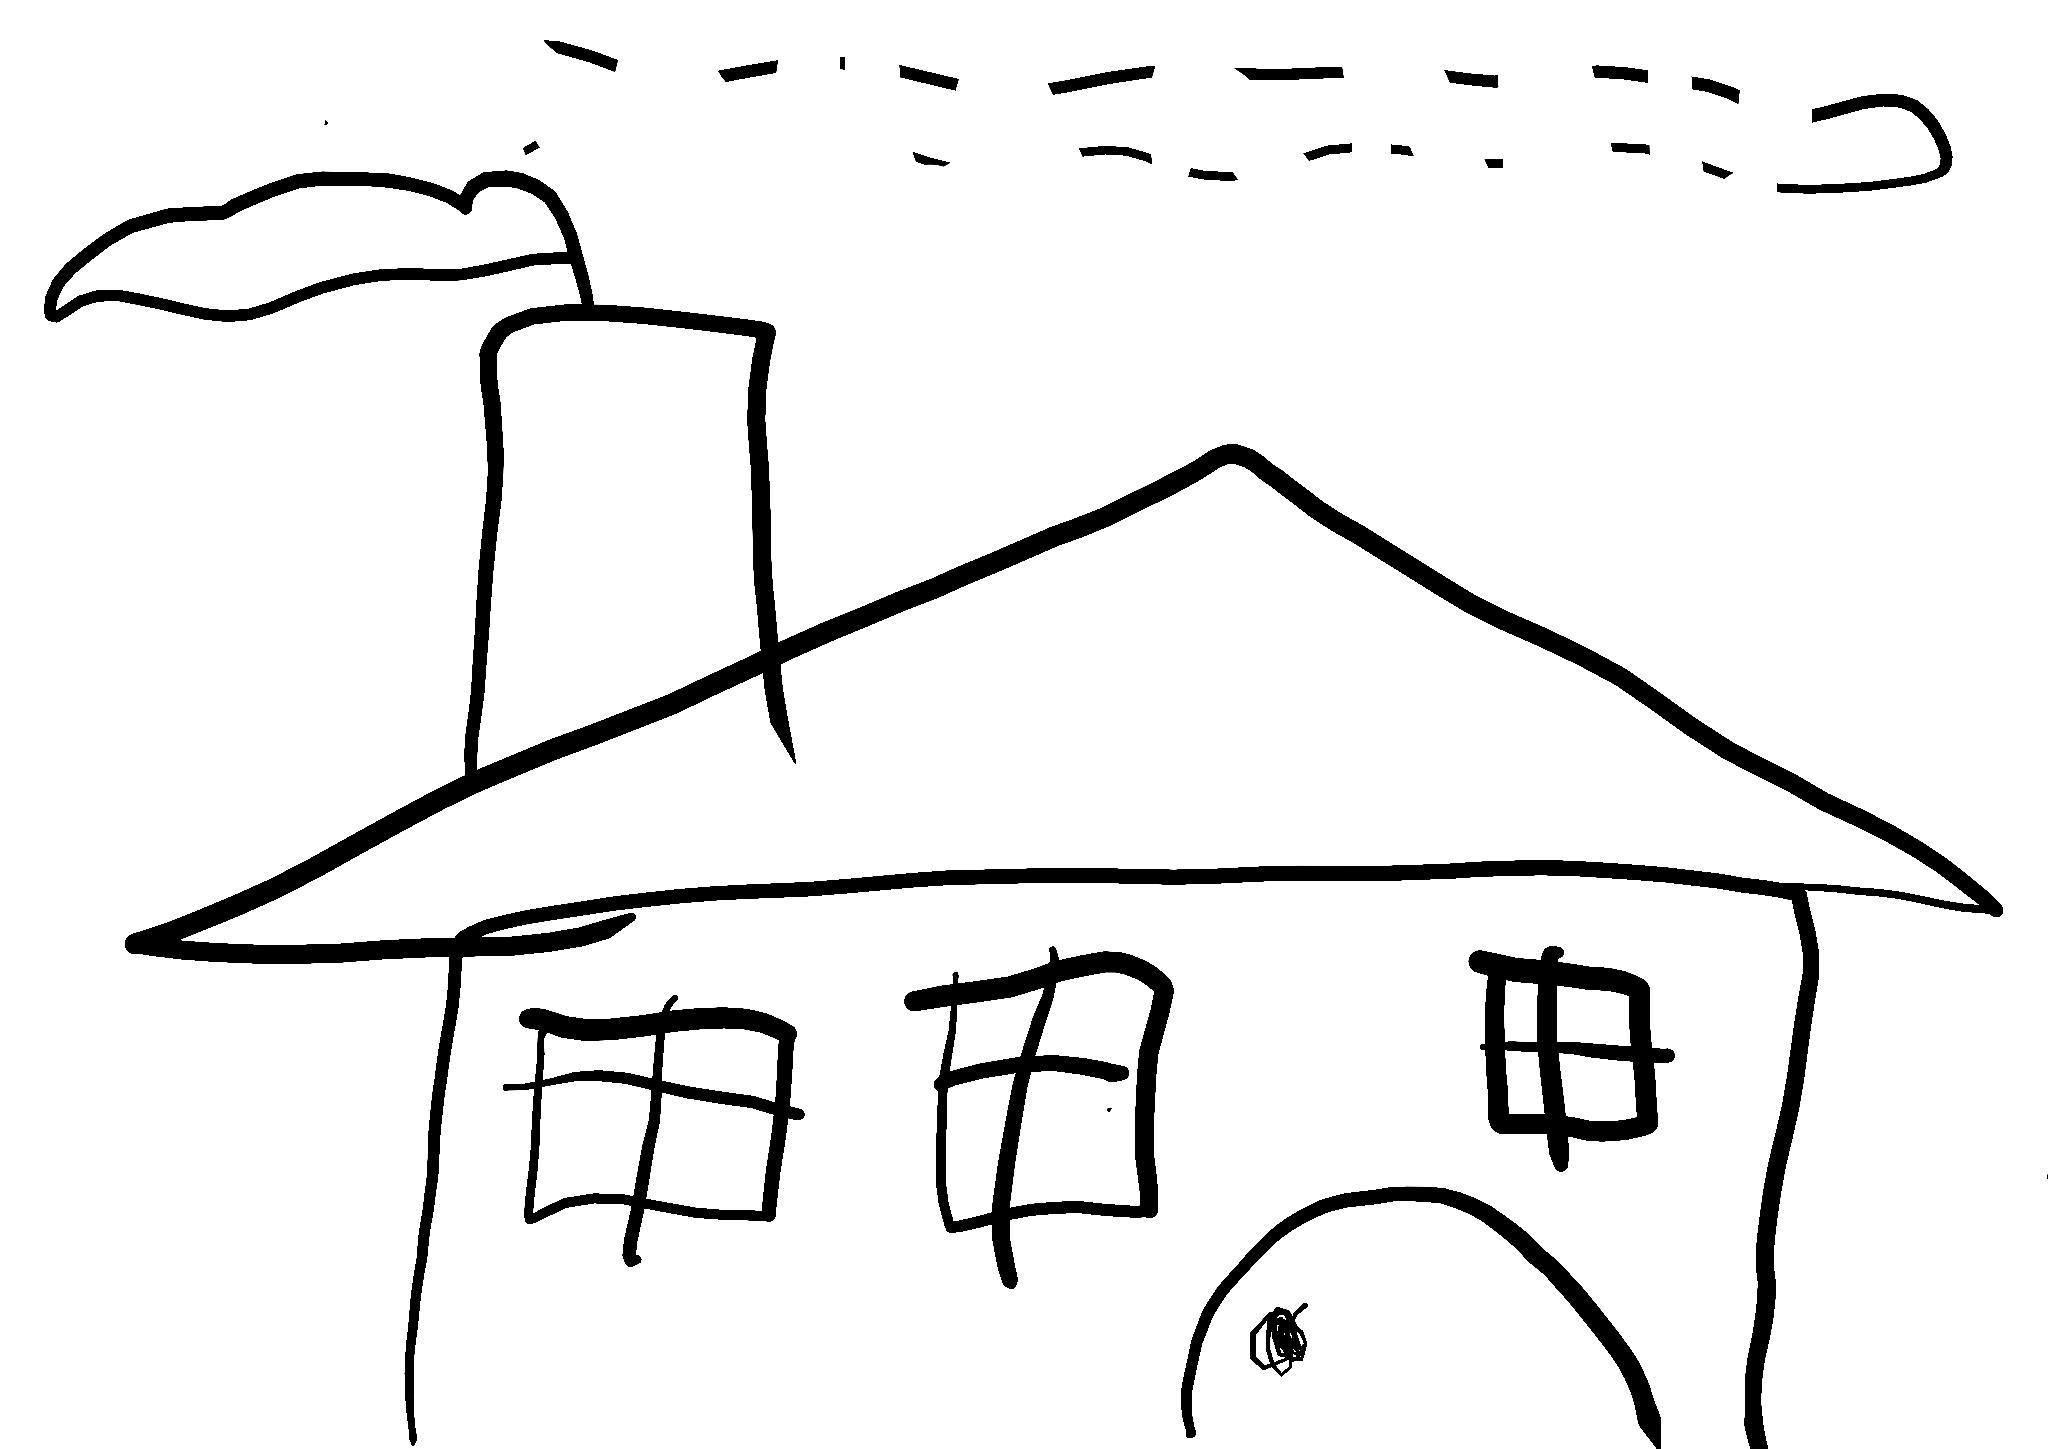chimney: (463, 304, 772, 786)
door: (1182, 1189, 1664, 1447)
house: (125, 312, 2014, 1449)
roof: (110, 442, 2003, 966)
wall: (409, 881, 1814, 1449)
window: (903, 949, 1175, 1291), (503, 1000, 804, 1269), (1472, 947, 1676, 1171)
